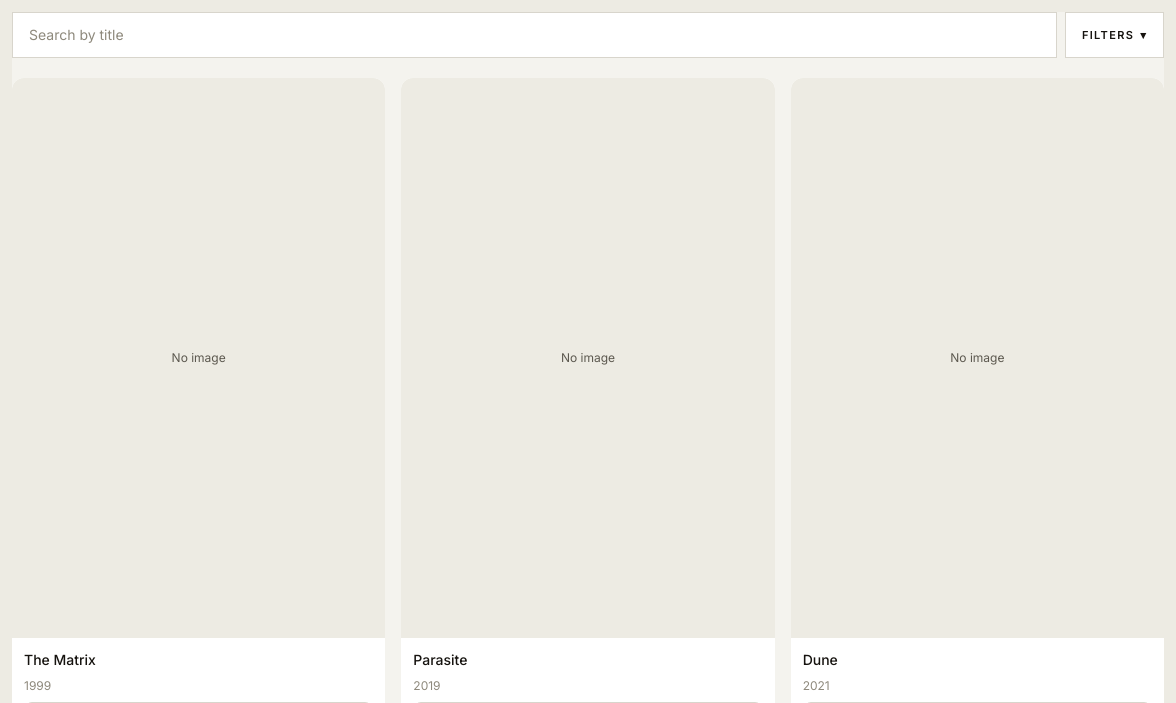
Test: MovieListClient › keeps the sort/rating/year controls behind a Filters toggle
The width and height of the screenshot is (1176, 703).
Check: the text "The Matrix" is shown, box [24,651,96,668]
Check: the field labelled "Search by title" is shown, box [12,12,1057,58]
Click the button "Filters ▾".
click(1114, 35)  # box [1065,12,1164,58]
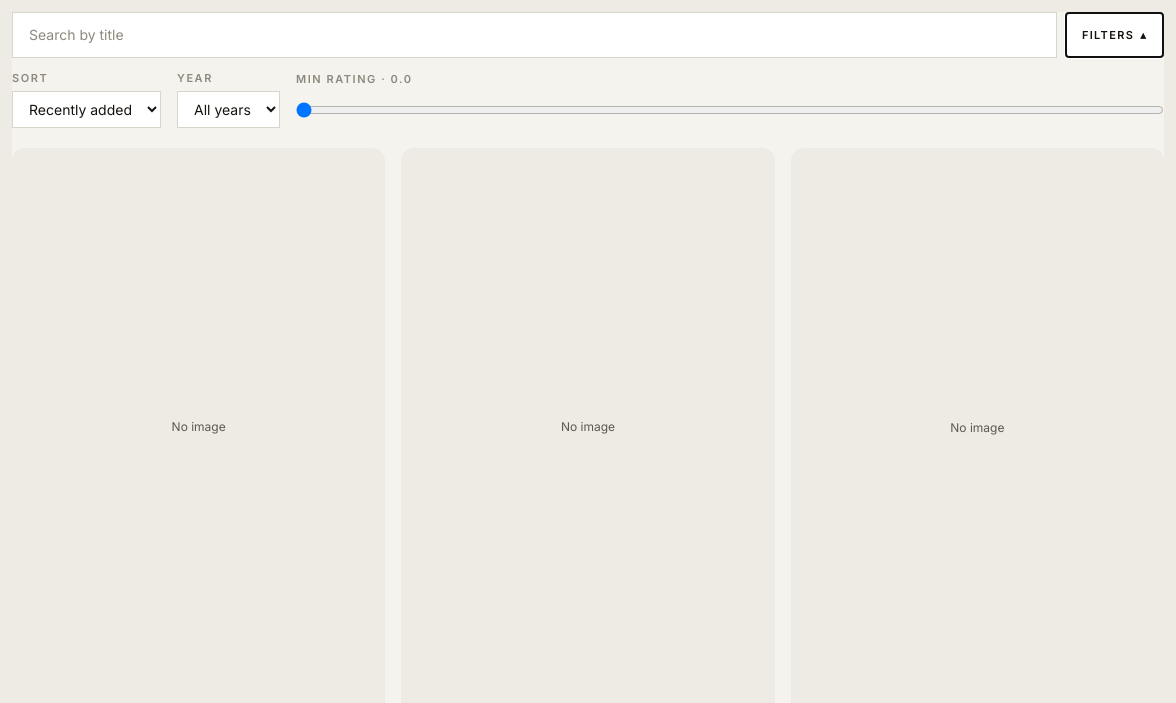
Check: the slider named "minimum rating" is shown, box [296,92,1164,128]
Check: the dropdown named "release year" is shown, box [177,90,280,128]
